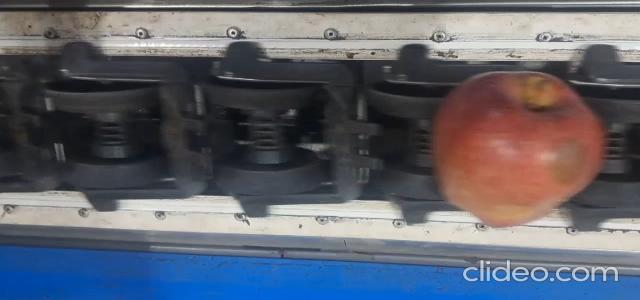apple: (434, 72, 604, 227)
